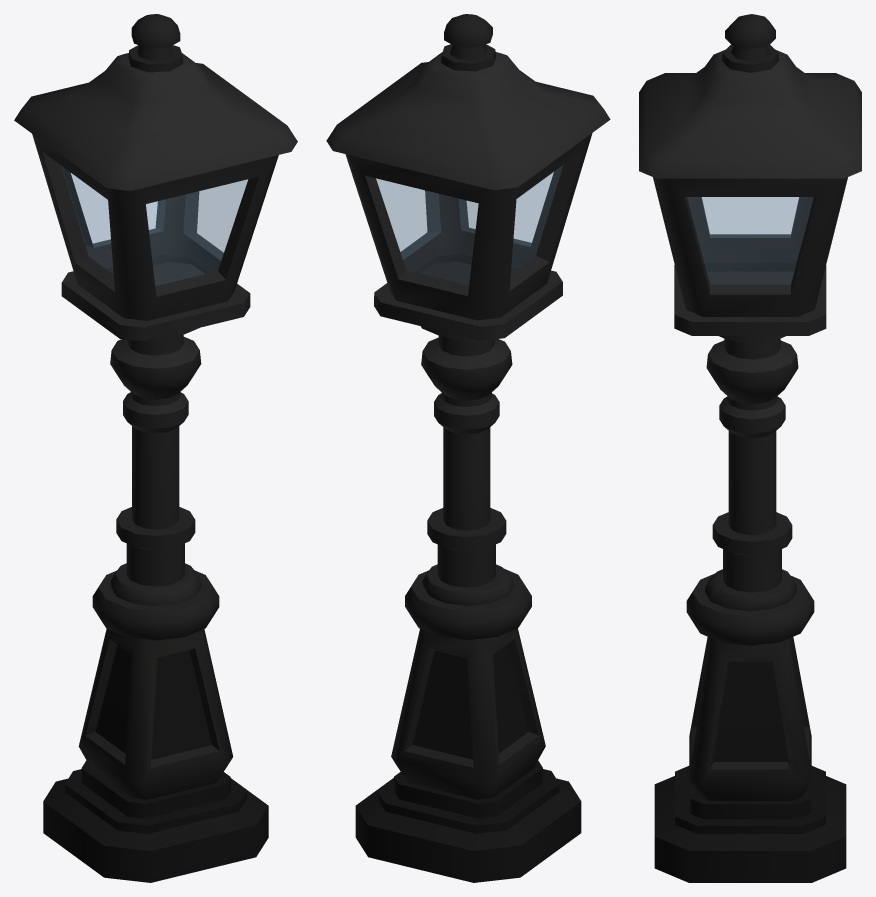
File: Street_Light_01_C02.fbx
The picture shows the model from 3 angles, left to right: view 1: azimuth 30°, elevation 25°; view 2: azimuth 150°, elevation 25°; view 3: azimuth 270°, elevation 25°; orthographic projection.
Parts seen in each view (by area): view 1: Street_Light_01_C02; view 2: Street_Light_01_C02; view 3: Street_Light_01_C02.
Part boxes in pixels (x1,y1,x2,y2): Street_Light_01_C02: [14, 14, 297, 882]; Street_Light_01_C02: [326, 14, 610, 882]; Street_Light_01_C02: [639, 14, 861, 882].
Size of the model in its own units: 80.91 by 331 by 80.91.
